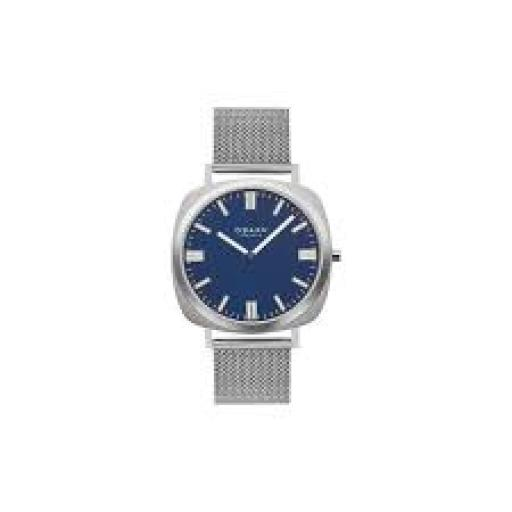KolSaati: (130, 77, 384, 418)
